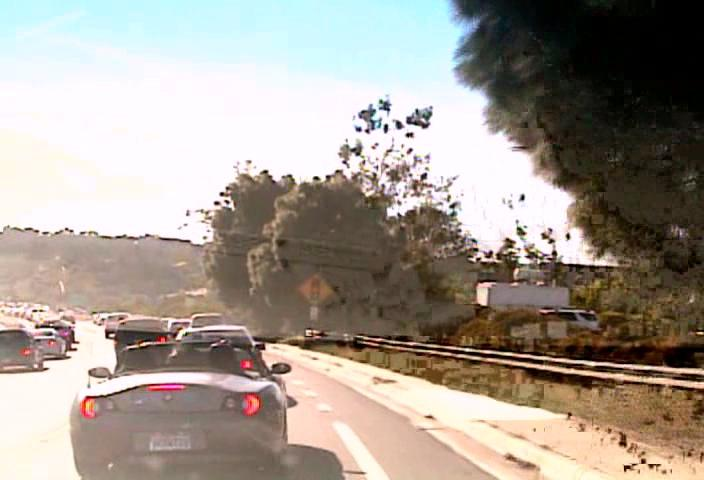signalAhead: (297, 271, 332, 305)
